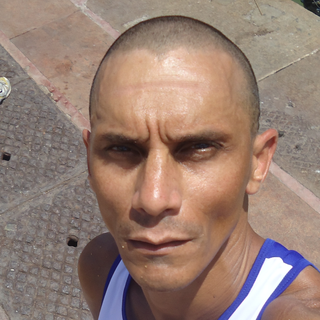eye: (173, 136, 224, 158), (100, 138, 141, 159)
